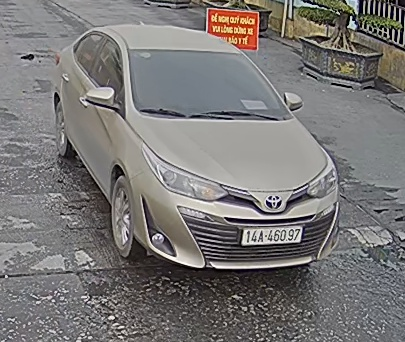vehicle plate: (236, 222, 307, 247)
